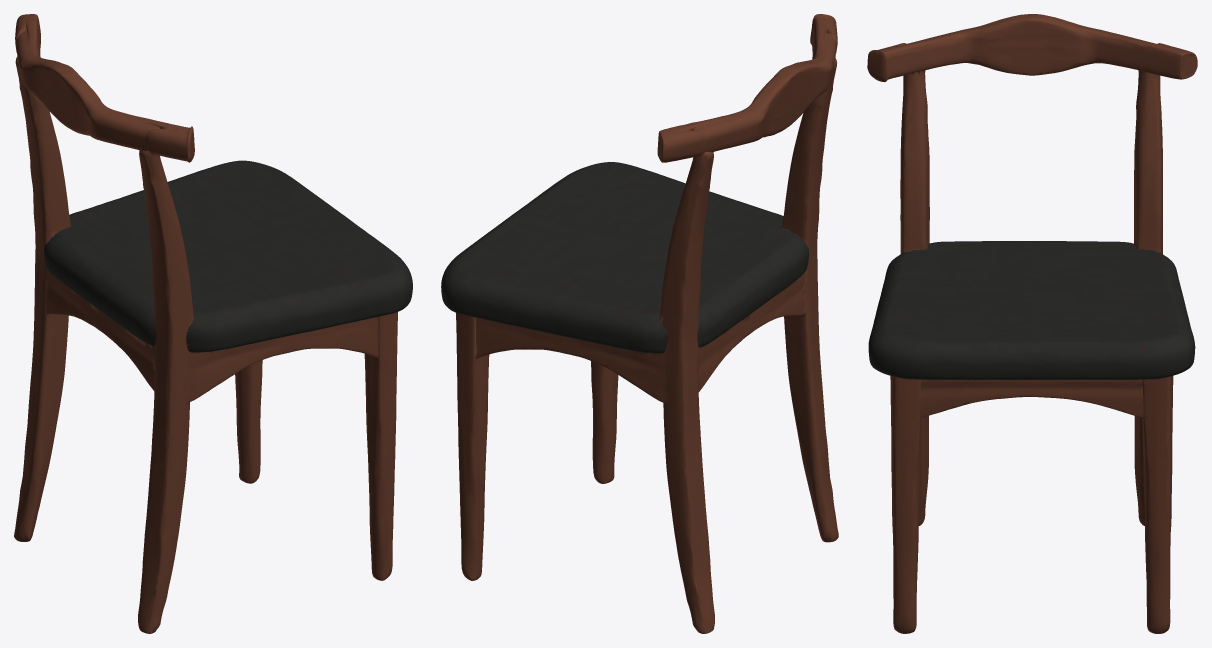
3 renders of one model, left to right at view 1: azimuth 30°, elevation 25°; view 2: azimuth 150°, elevation 25°; view 3: azimuth 270°, elevation 25°, orthographic. The views are drawn at different scales.
Visible parts, largest first — view 1: tripo_node_48e125c9-7d07-43b6-81e3-7d696271e226; view 2: tripo_node_48e125c9-7d07-43b6-81e3-7d696271e226; view 3: tripo_node_48e125c9-7d07-43b6-81e3-7d696271e226.
Part boxes in pixels (x1,y1,x2,y2): tripo_node_48e125c9-7d07-43b6-81e3-7d696271e226: (14,14,412,633); tripo_node_48e125c9-7d07-43b6-81e3-7d696271e226: (441,14,838,633); tripo_node_48e125c9-7d07-43b6-81e3-7d696271e226: (867,14,1197,633).
Size of the model in its own units: 0.47 by 0.8 by 0.48.
Materials: 2 (1 with a texture image).
